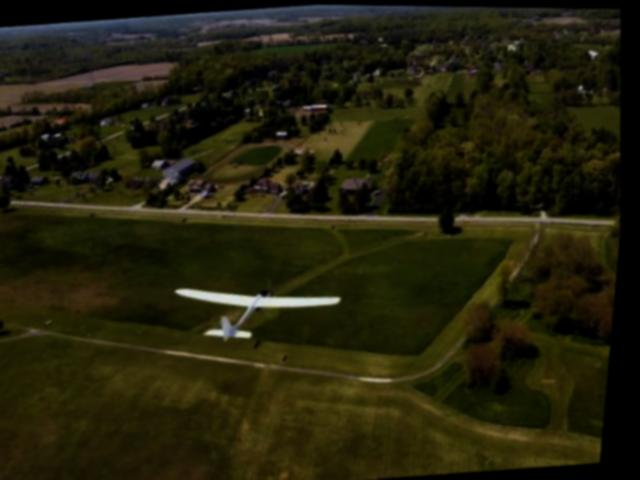uav: (164, 263, 363, 358)
